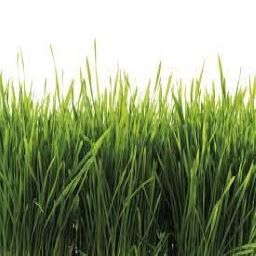grass: (0, 46, 253, 253)
